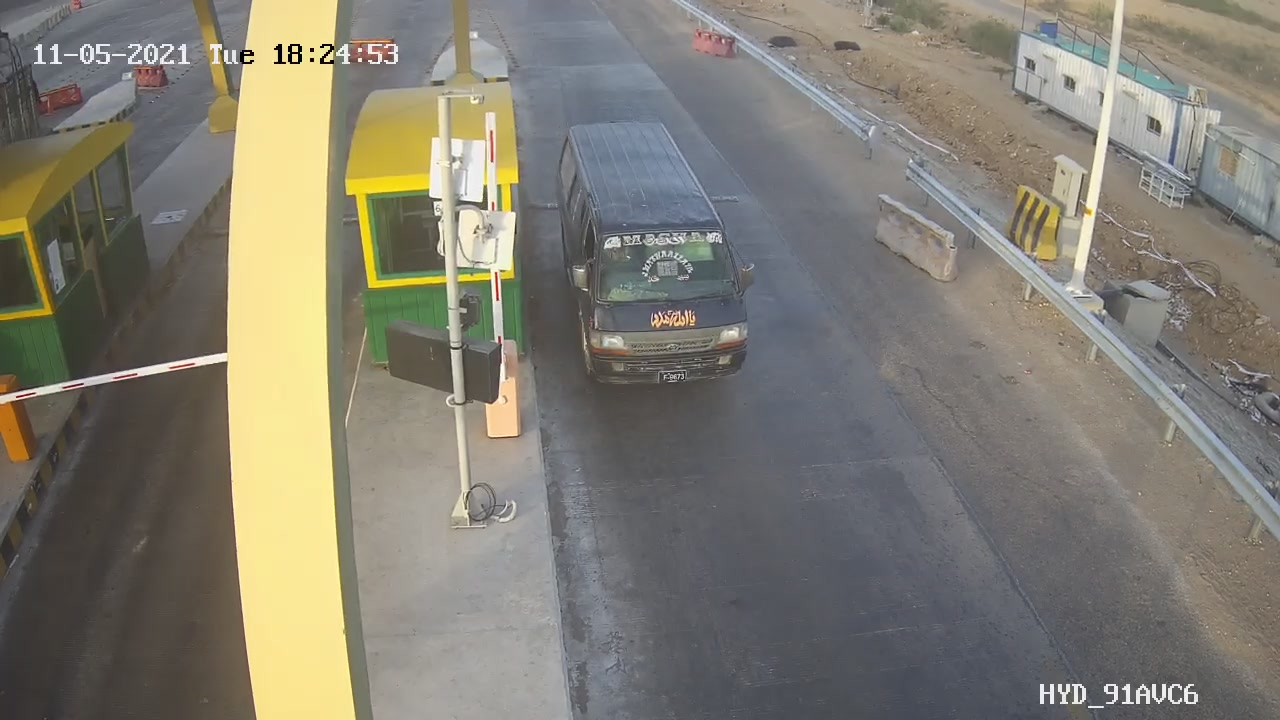F2: (549, 104, 769, 414)
